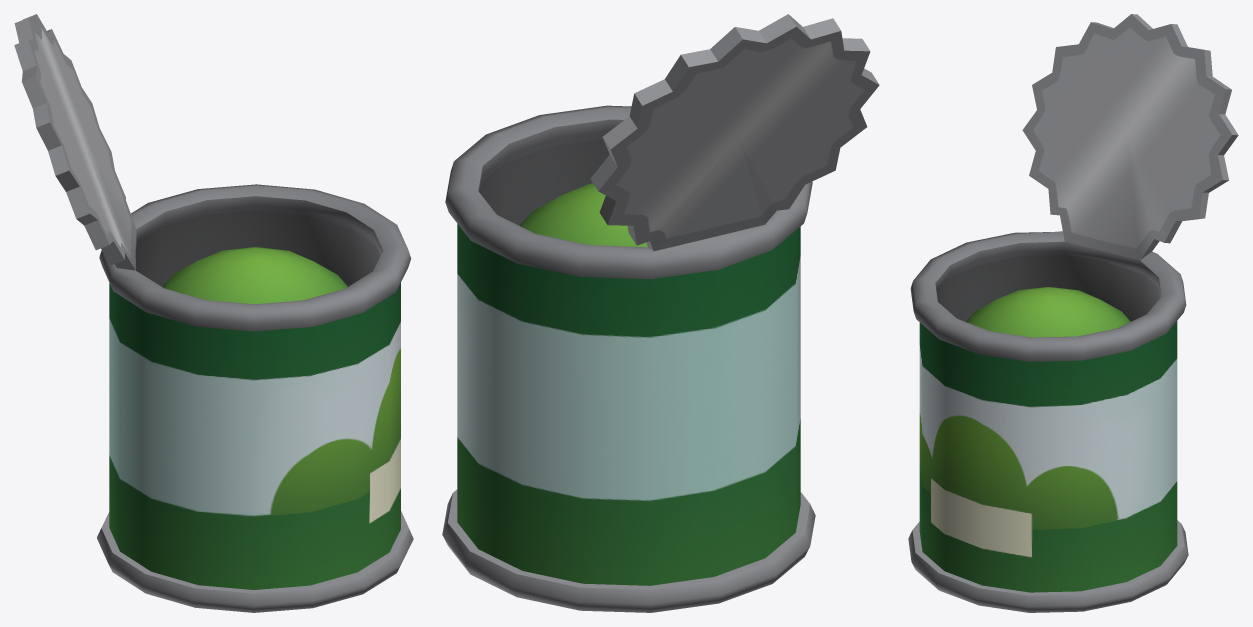
File: spinachAmmo.fbx
3 views of the same model, side by side, from view 1: azimuth 30°, elevation 25°; view 2: azimuth 150°, elevation 25°; view 3: azimuth 270°, elevation 25° (orthographic). The views are drawn at different scales.
Parts seen in each view (by area): view 1: Spinach; view 2: Spinach; view 3: Spinach.
Boxes of the visible parts, x1,y1,x2,y2 form: Spinach: (14, 14, 413, 612); Spinach: (442, 14, 879, 612); Spinach: (908, 14, 1238, 612).
Size of the model in its own units: 116 by 166 by 107.
1 material, 1 textured.
